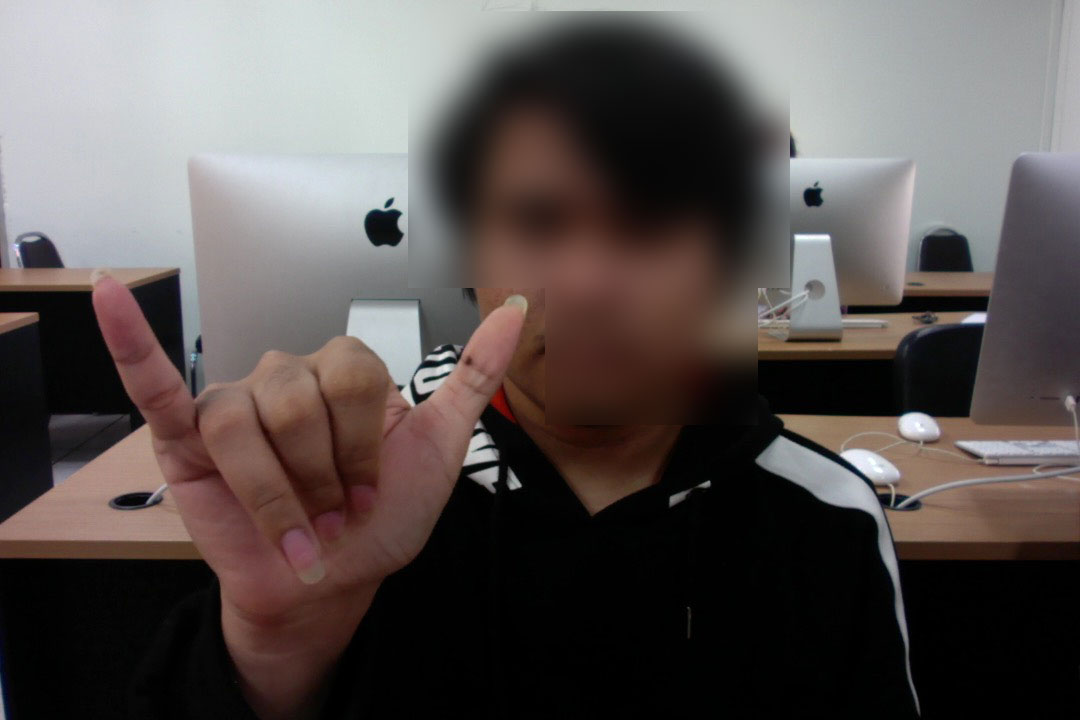yor: (69, 259, 553, 632)
